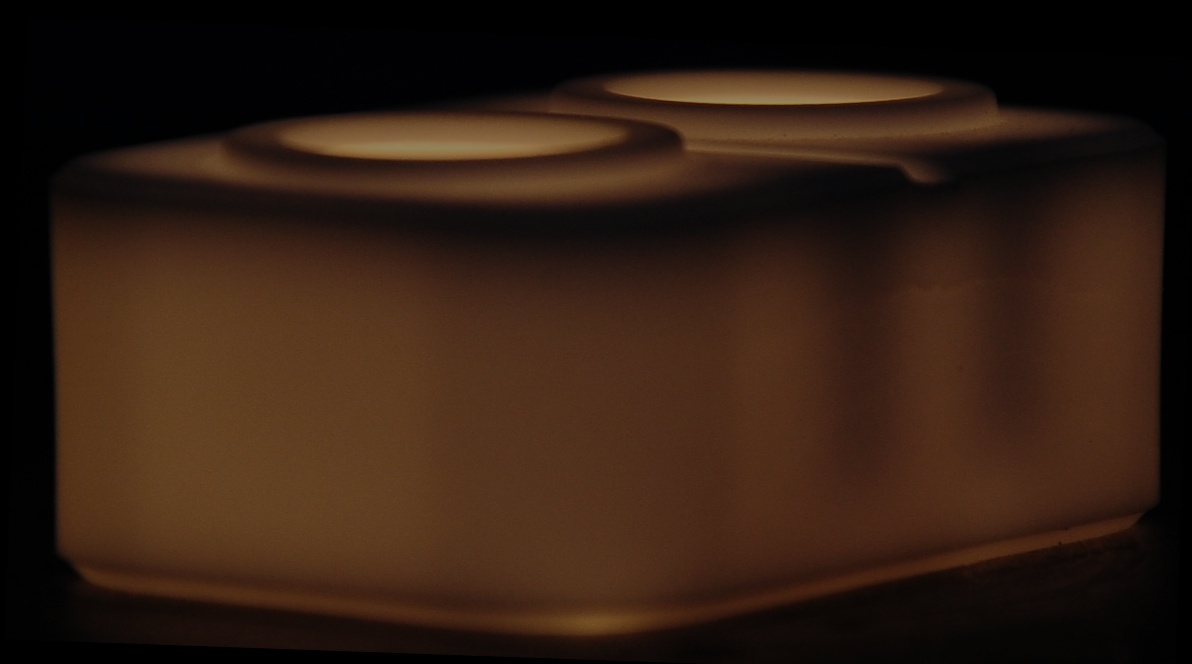flaw: (813, 260, 1134, 330)
